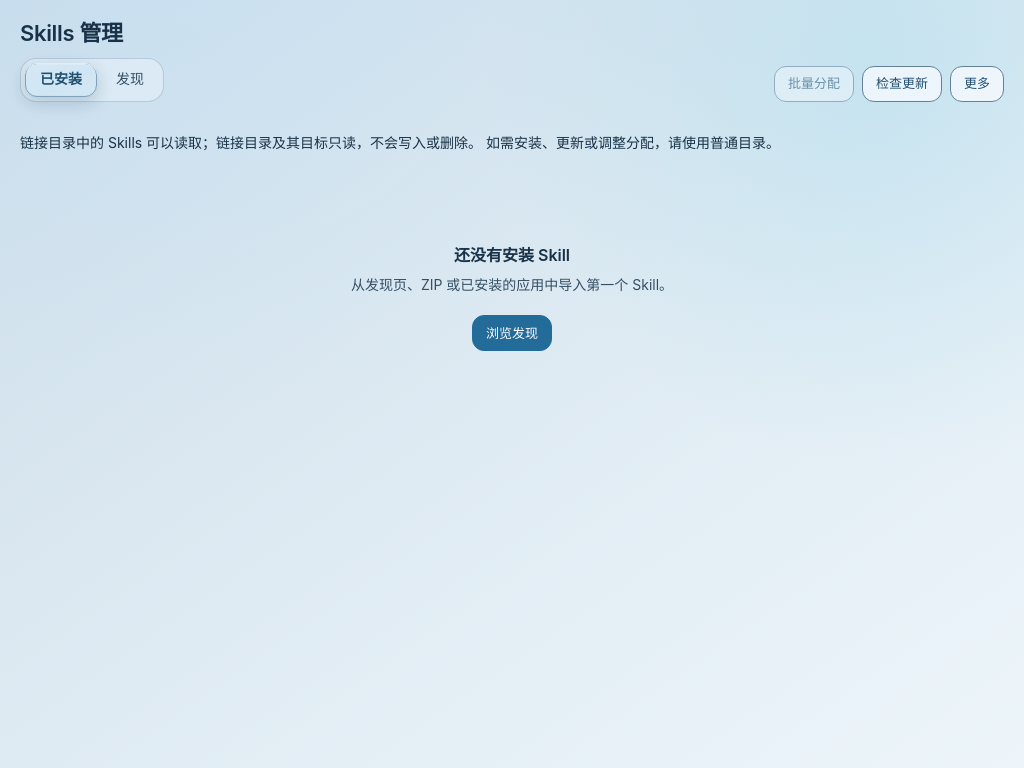
it: Skills management › filters Skill 市场 discovery by official category
The image size is (1024, 768).
Check: the heading "还没有安装 Skill" is shown, box [454,245,570,266]
Step 1. Click the tab "发现" → (130, 80), box [101,62,159,96]
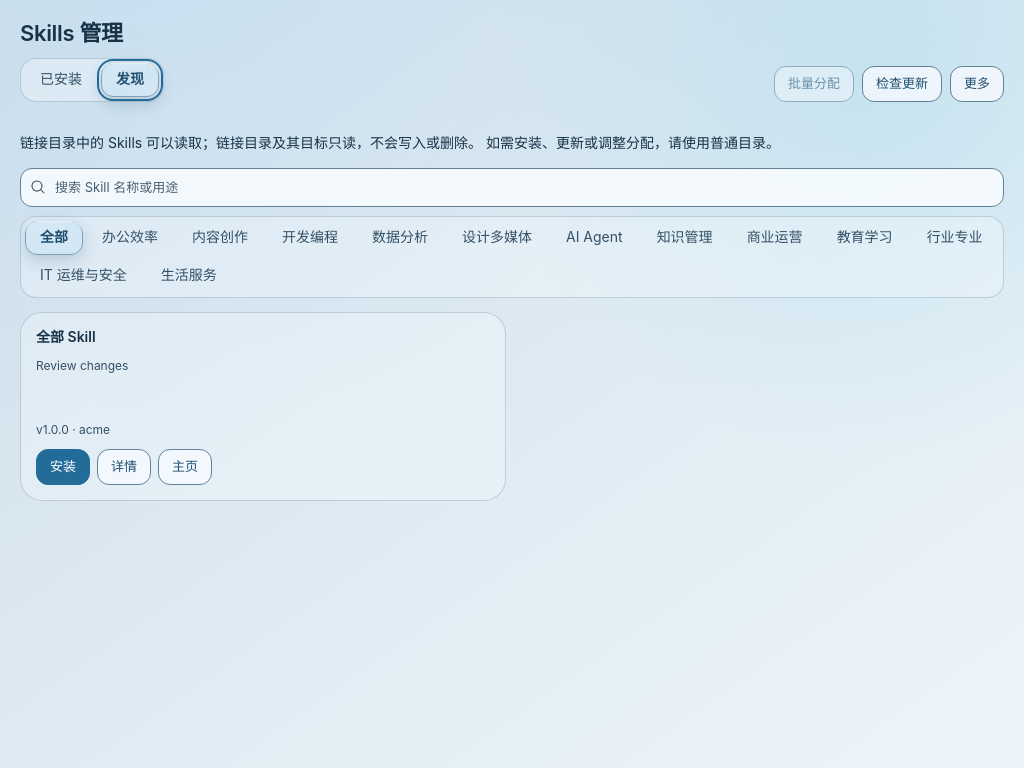
Check: the heading "全部 Skill" is shown, box [36,328,96,347]
Step 2. Click the tab "办公效率" → (130, 238), box [87,221,173,255]
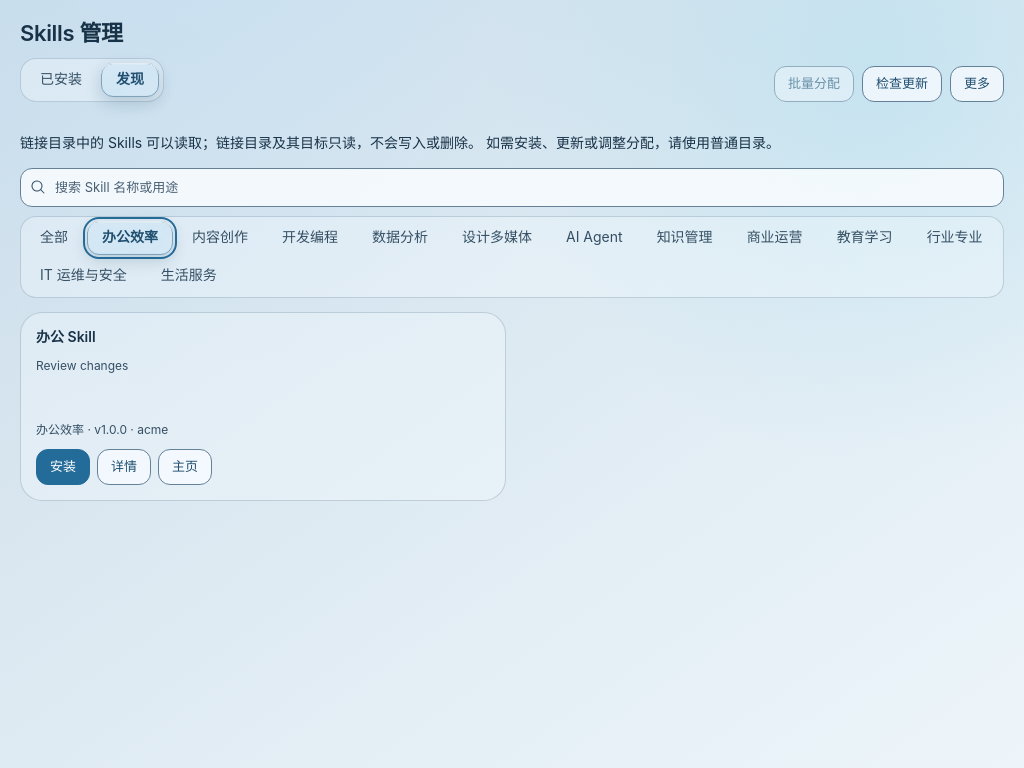
Check: the heading "办公 Skill" is shown, box [36,328,96,347]
